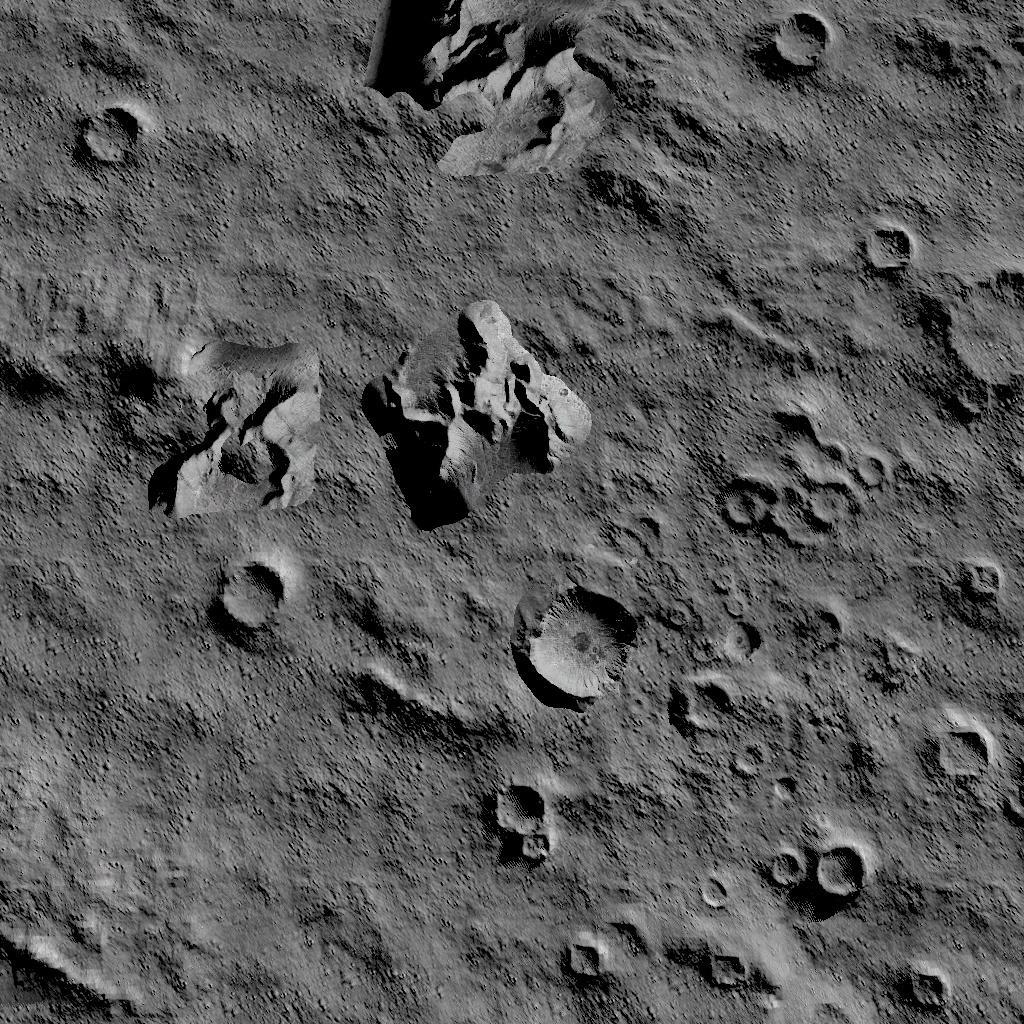Boulders: (368, 0, 710, 228), (0, 275, 318, 513), (361, 298, 588, 528), (333, 562, 508, 760), (0, 922, 151, 1024)
Crater: (721, 405, 885, 543), (523, 582, 638, 706), (943, 260, 1024, 423), (486, 778, 558, 878), (766, 840, 870, 905), (213, 558, 293, 636), (74, 98, 146, 168), (764, 8, 832, 82), (936, 718, 990, 790), (671, 678, 733, 736), (858, 218, 918, 276), (901, 965, 958, 1013), (958, 548, 1006, 602), (558, 940, 606, 983), (704, 945, 748, 990)
Plan surface: (4, 525, 200, 910), (218, 775, 473, 1024), (163, 0, 353, 265), (726, 92, 953, 206)
